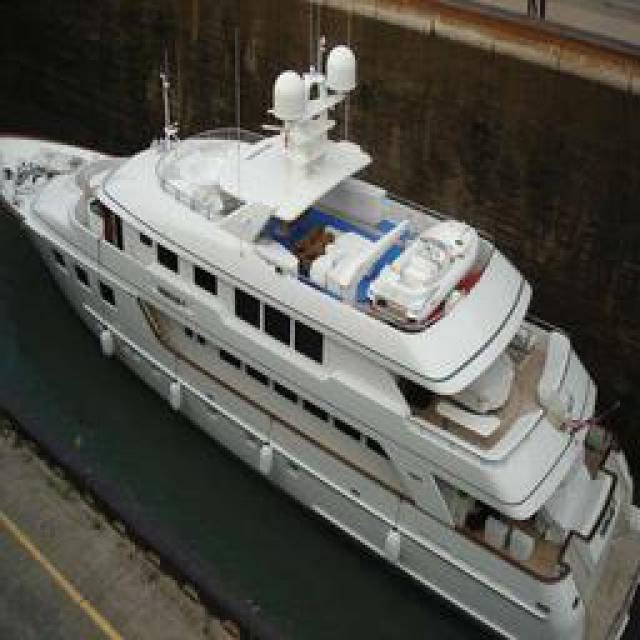Ship: (1, 25, 640, 640)
